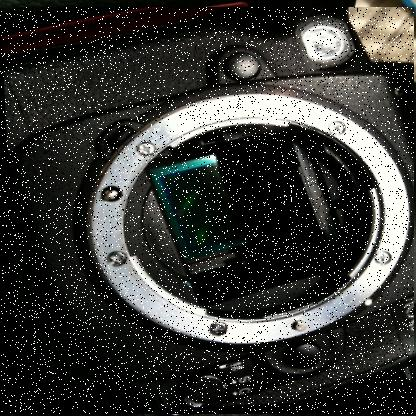Camera: (1, 8, 416, 416)
